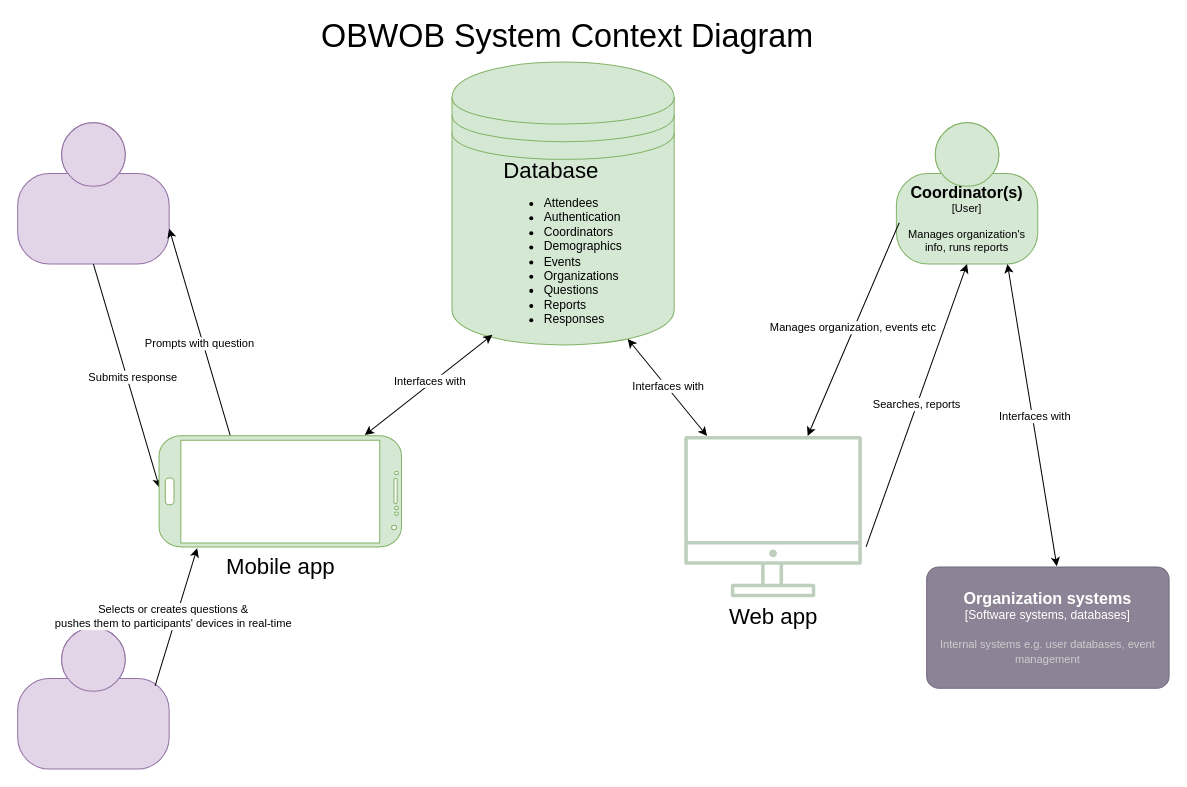
Image size: 1187x787. Some labels were removed from this diagram. Each missing label, with the box of its shape:
Facilitator [Attendee] Workshop facilitator: (17, 627, 169, 769)
Participant [Attendee] Workshop participant: (17, 122, 169, 264)
